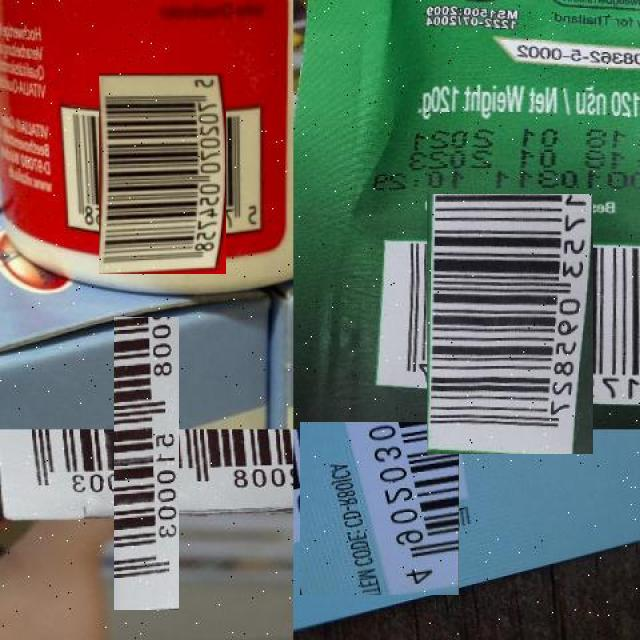Barcode: (403, 217, 617, 430), (57, 373, 236, 553), (297, 425, 463, 592), (80, 91, 245, 256)
